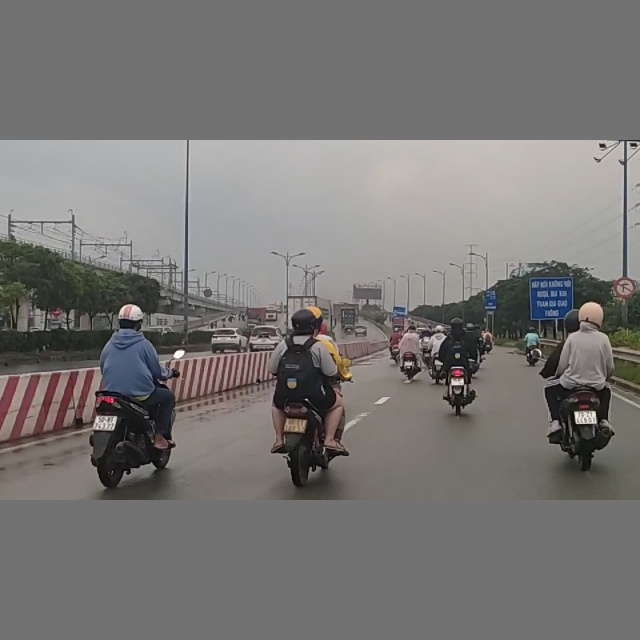P.123b: (613, 277, 635, 297)
